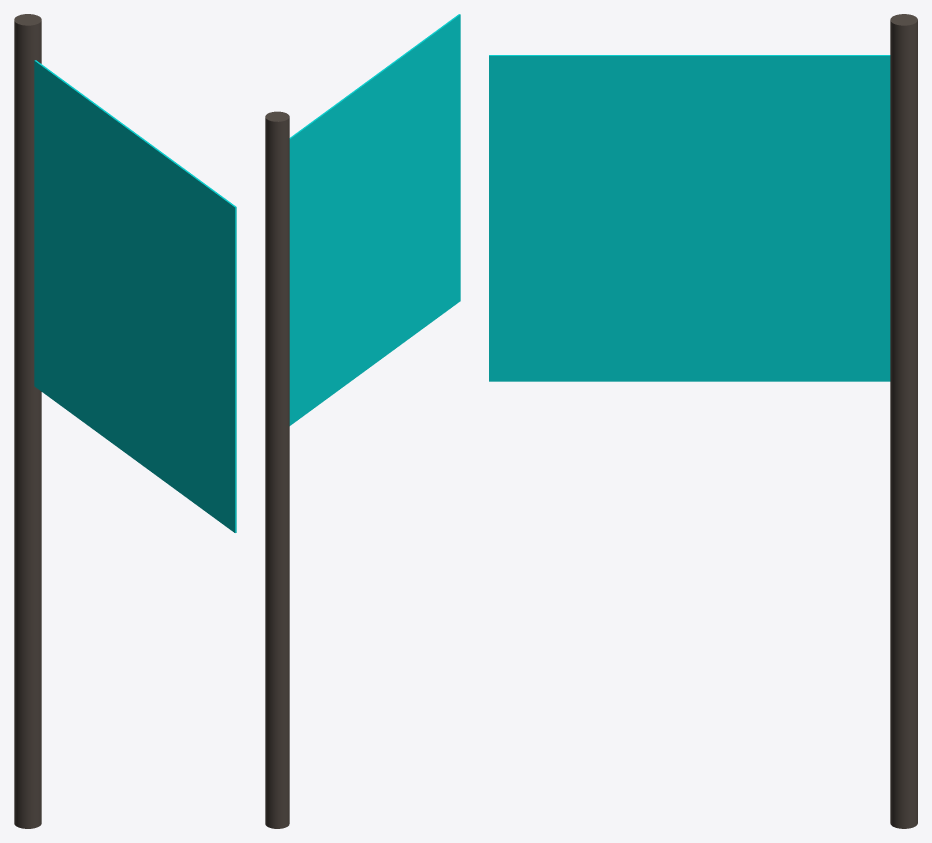
The model's file is Blue Flag.fbx.
3 views of the same model, side by side, from view 1: azimuth 30°, elevation 25°; view 2: azimuth 150°, elevation 25°; view 3: azimuth 270°, elevation 25° (orthographic). The views are drawn at different scales.
Visible parts, largest first — view 1: pPlane1, pCylinder1; view 2: pPlane1, pCylinder1; view 3: pPlane1, pCylinder1.
Part boxes in pixels (bbox=[...]): pPlane1: bbox=[34, 60, 236, 532]; pCylinder1: bbox=[14, 14, 41, 828]; pPlane1: bbox=[289, 14, 460, 425]; pCylinder1: bbox=[265, 111, 289, 828]; pPlane1: bbox=[489, 55, 890, 381]; pCylinder1: bbox=[890, 14, 917, 828].
Bounding box in the file's own units: 2 × 63.94 × 30.94.
